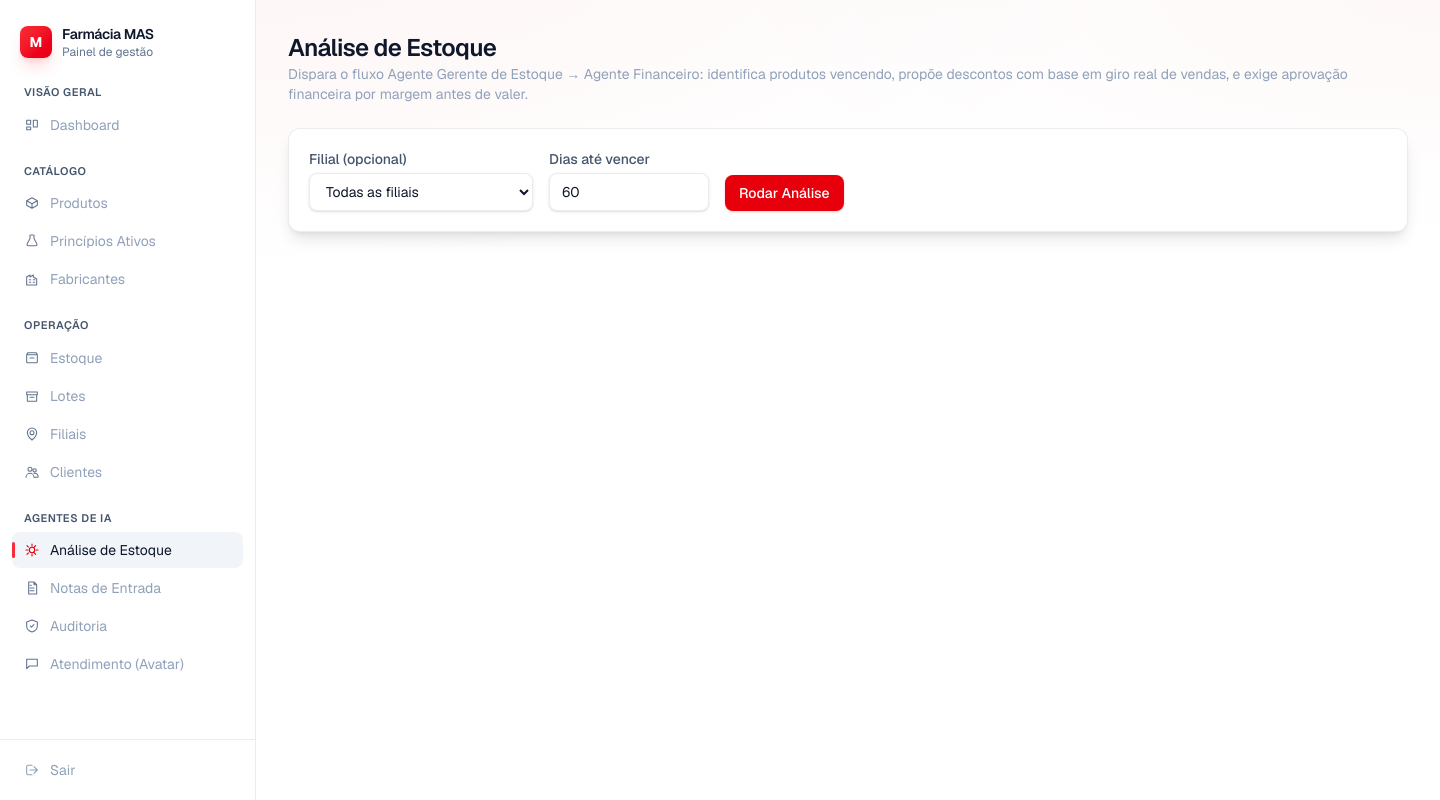
Test: Análise de Estoque — fluxo mockado › roda a análise e mostra as decisões retornadas
The width and height of the screenshot is (1440, 800).
Click the button "Rodar Análise" at [785, 193], box x1=725 y1=175 x2=844 y2=211
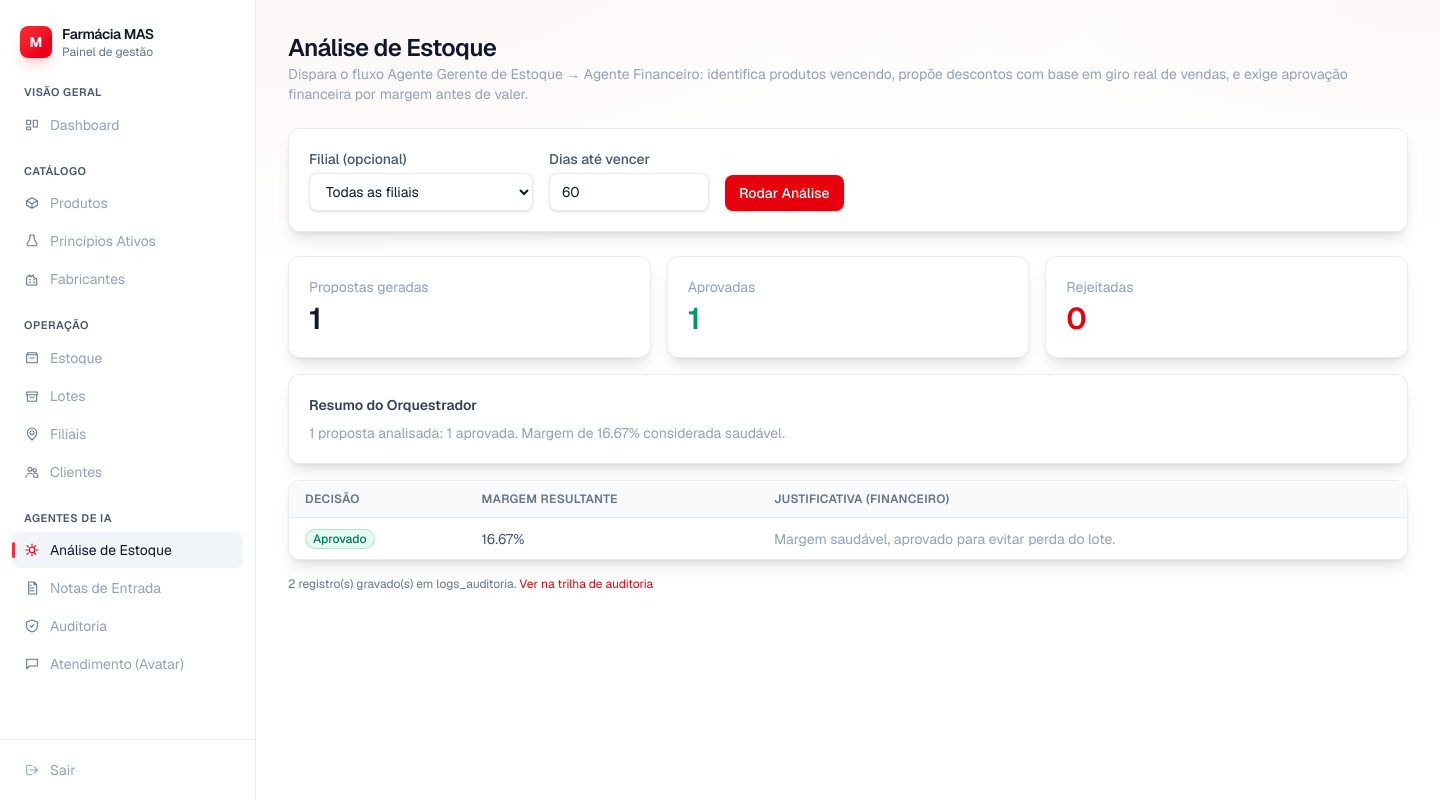
Check: the text "1" below "Propostas geradas" is shown, box x1=309 y1=299 x2=322 y2=338
Check: the text "1" below "Aprovadas" is shown, box x1=688 y1=299 x2=701 y2=338
Check: the text "0" is shown, box x1=1066 y1=299 x2=1087 y2=338
